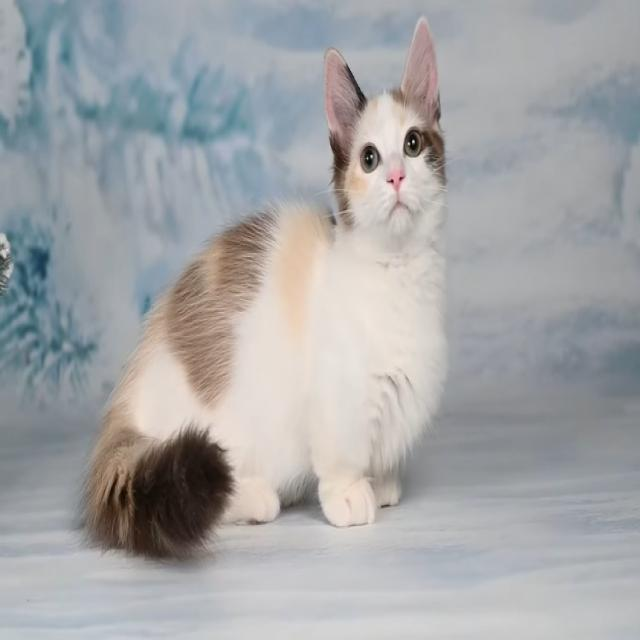Munchkin: (68, 6, 461, 564)
